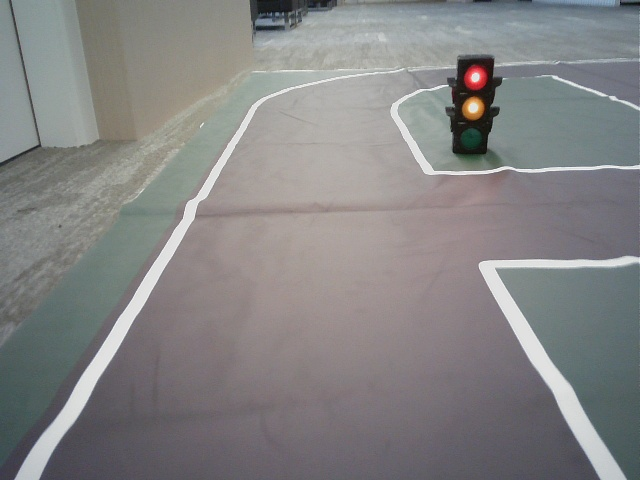red: (454, 58, 489, 153)
